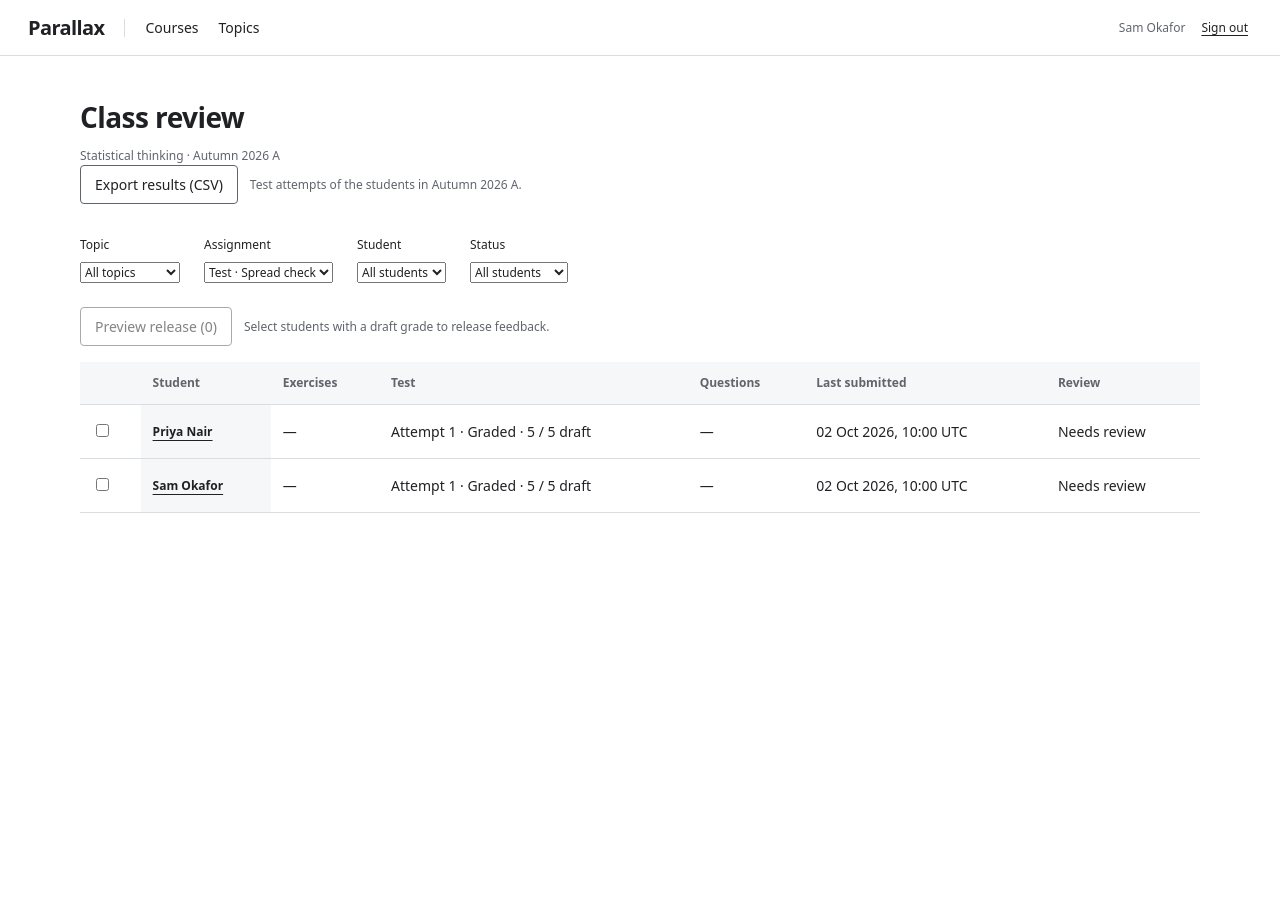
Scenario: grading workspace › A25 bulk release previews the exact students and results, and names who is skipped
Expected: the table is shown, [80,362,1200,513]
Expected: the button "Preview release (0)" is disabled, [80,307,232,346]
Click the checkbox named "Select Priya Nair for release" at [102, 430], box [96,424,109,437]
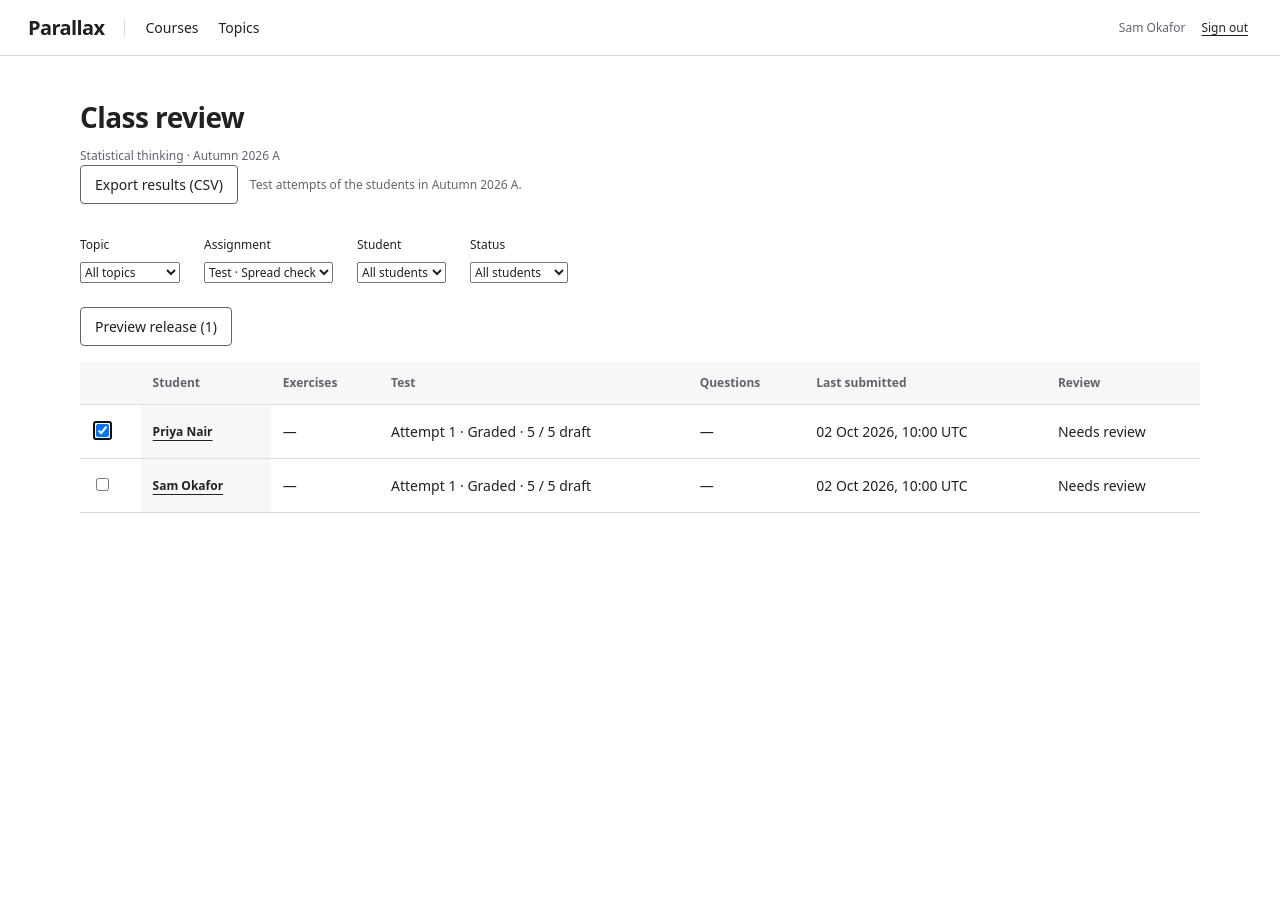
Click the checkbox named "Select Sam Okafor for release" at [102, 484], box [96,478,109,491]
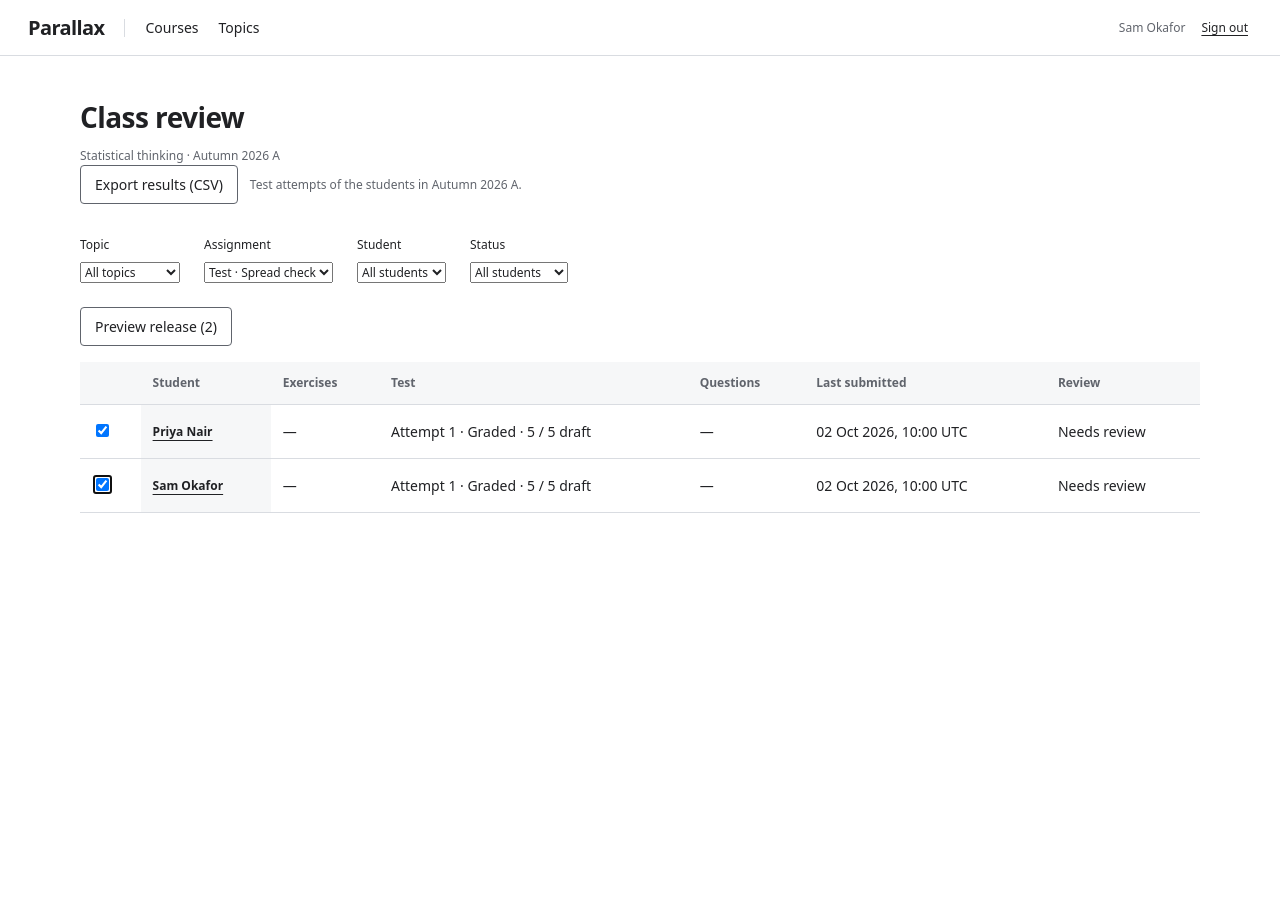
Click the button "Preview release (2)" at [156, 326], box [80,307,232,346]
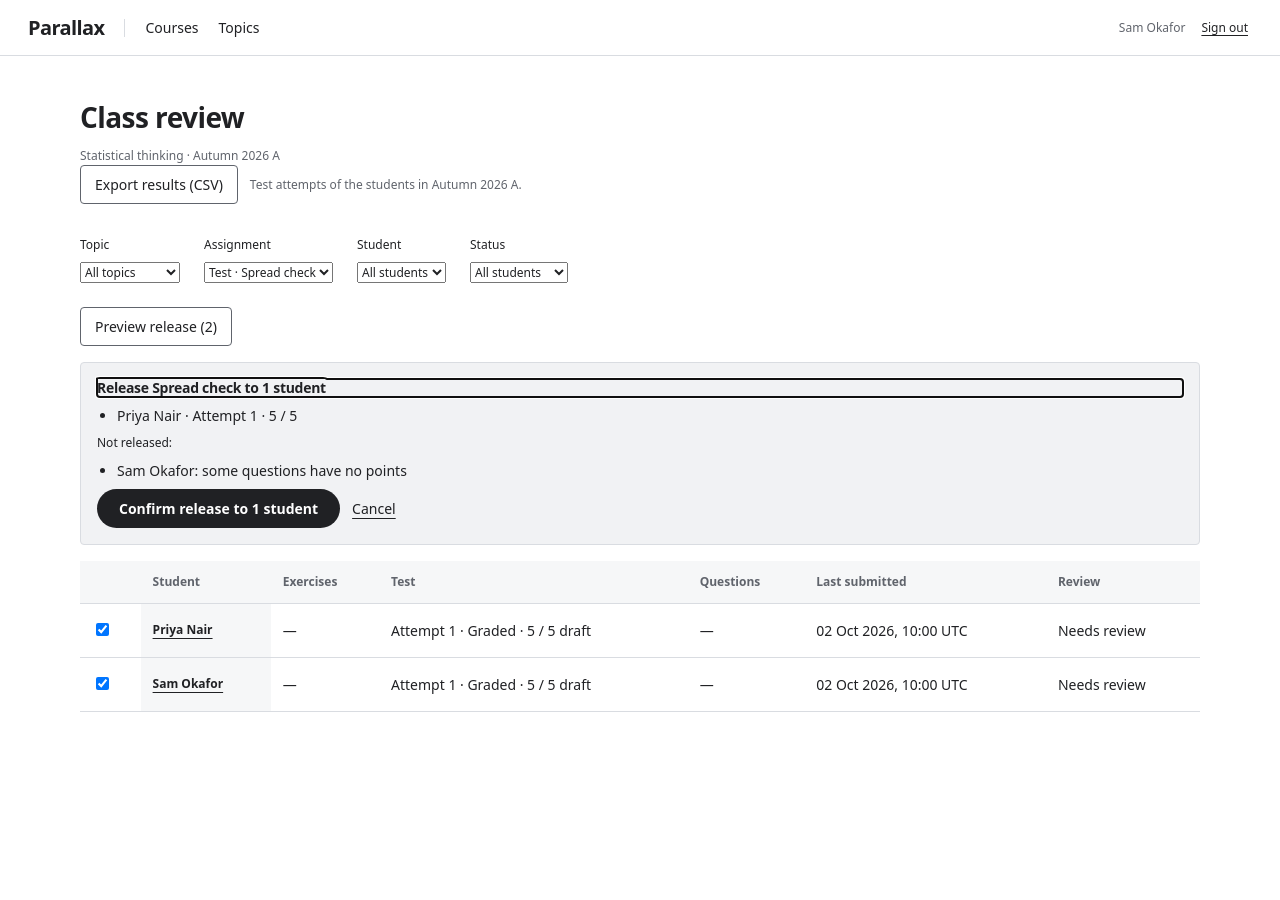
Expected: the list named "Recipients" reads "Priya Nair · Attempt 1 · 5 / 5", [117,406,297,424]
Expected: the list named "Skipped" reads "Sam Okafor: some questions have no points", [117,460,407,480]
Click the button "Confirm release to 1 student" at [219, 508], box [97,488,340,528]
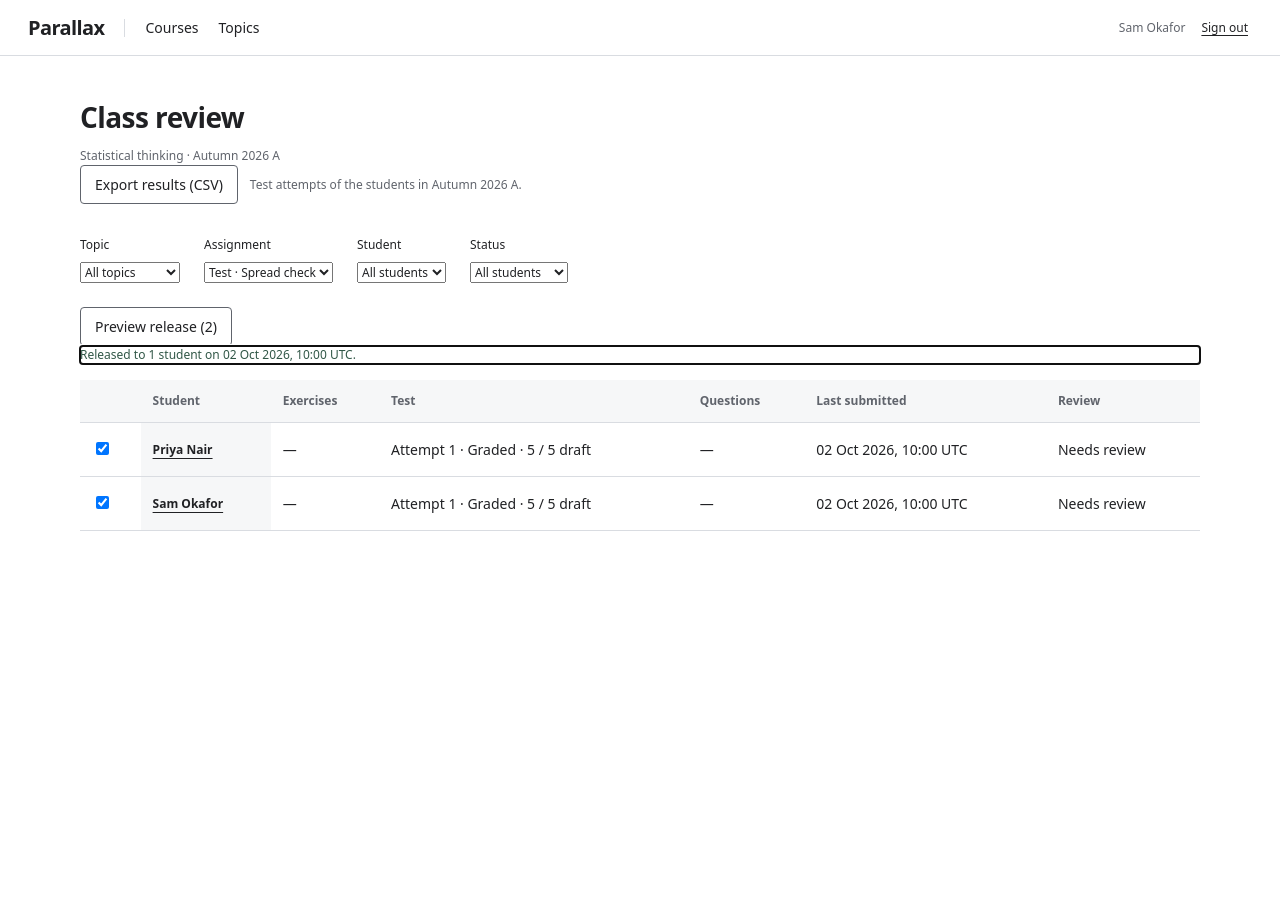
Expected: the text "Released to 1 student on 02 Oct 2026, 10:00 UTC." is shown, [80,346,356,363]
